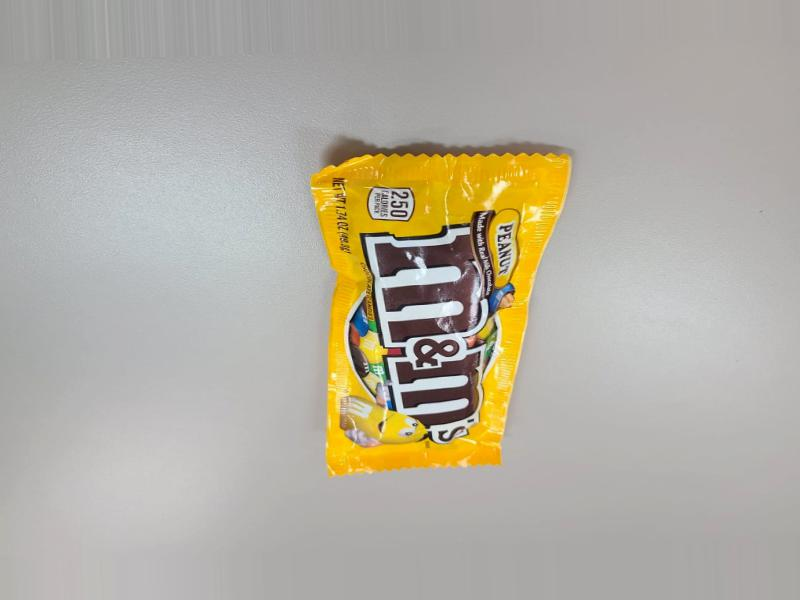m&m: (290, 128, 524, 479)
